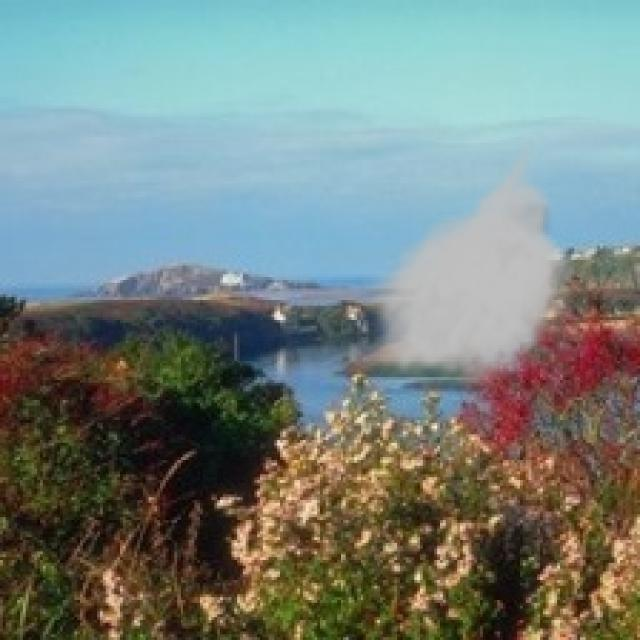smoke: (360, 132, 577, 392)
